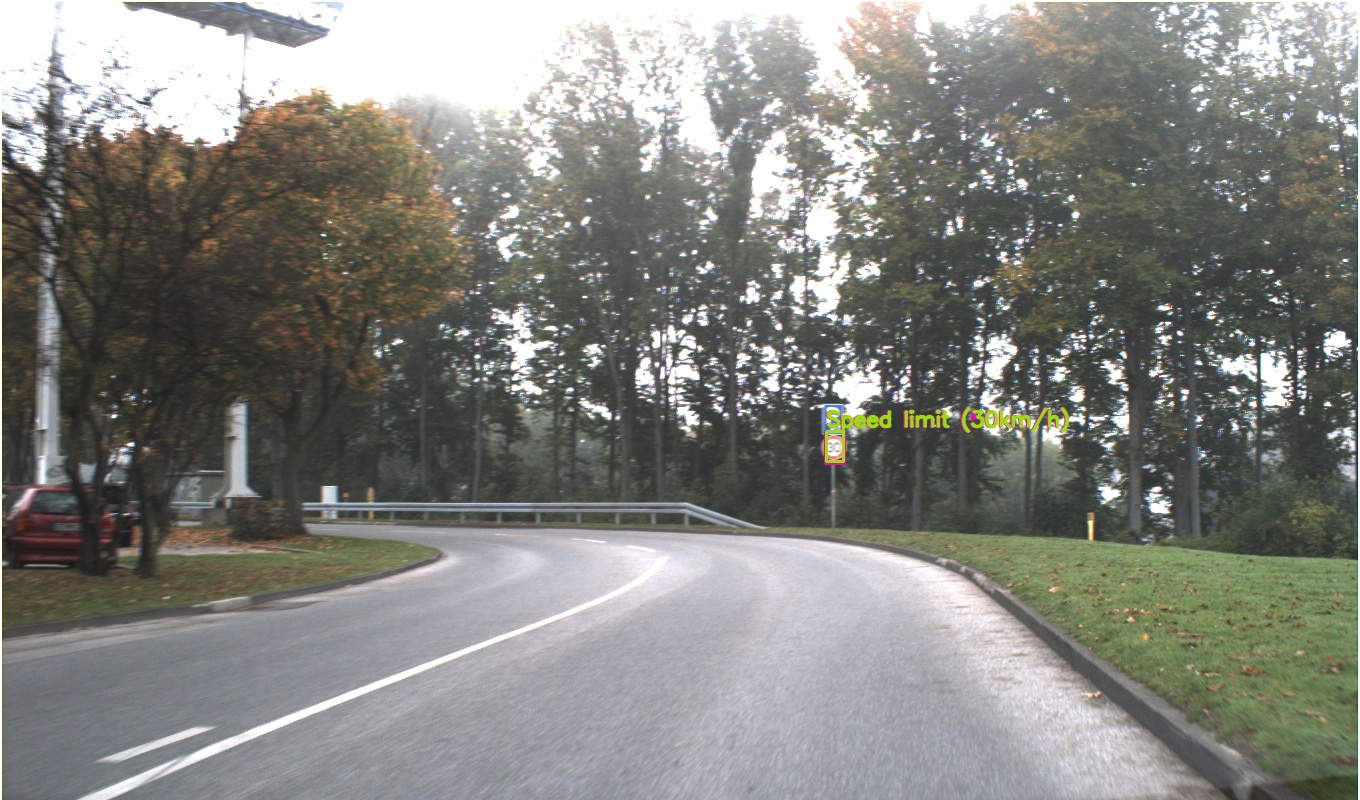Keep right: (233, 499, 249, 521)
Yield: (966, 228, 1044, 299)
